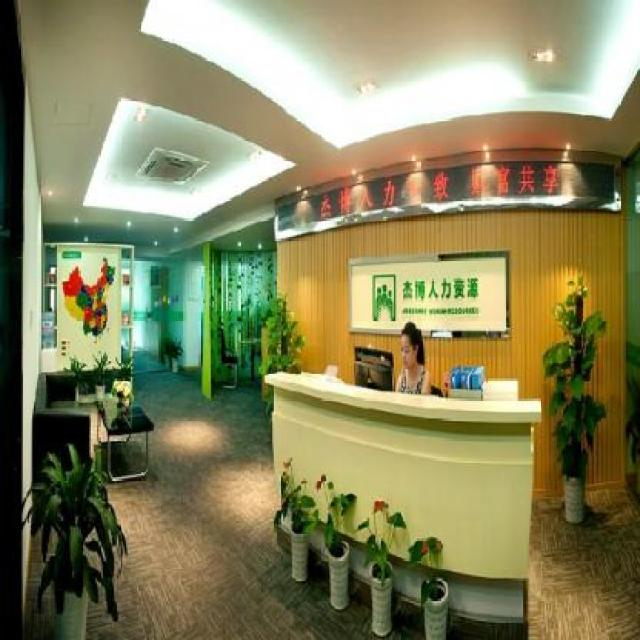frontdesk: (257, 358, 550, 640)
